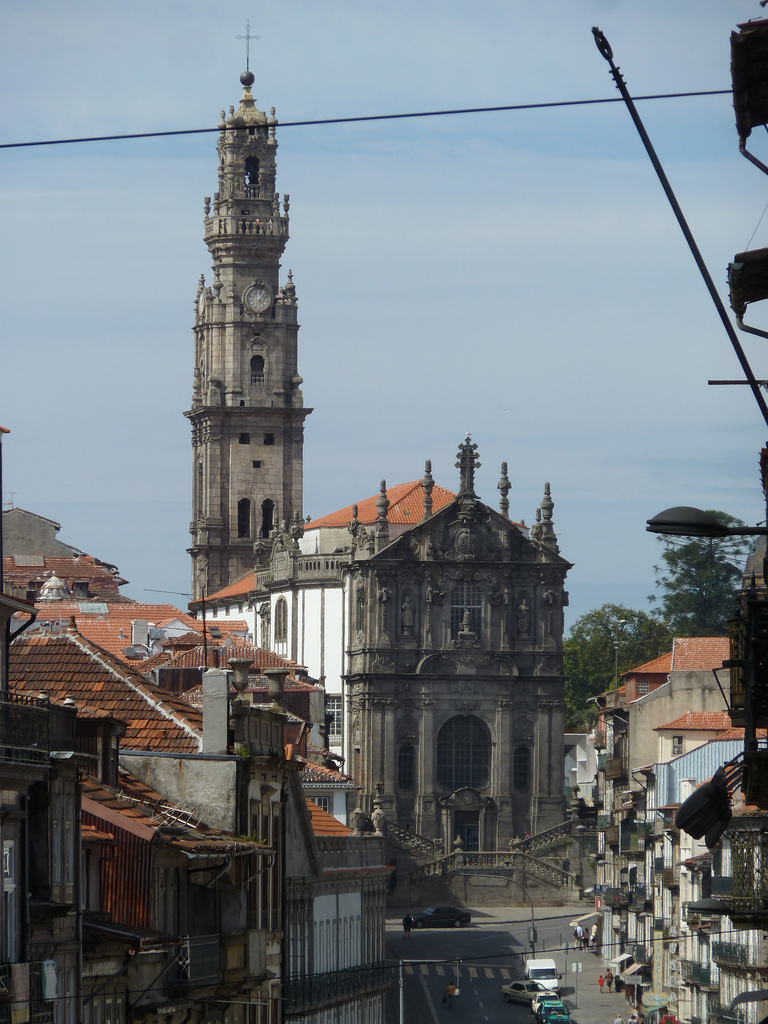clerigos: (184, 20, 315, 600)
